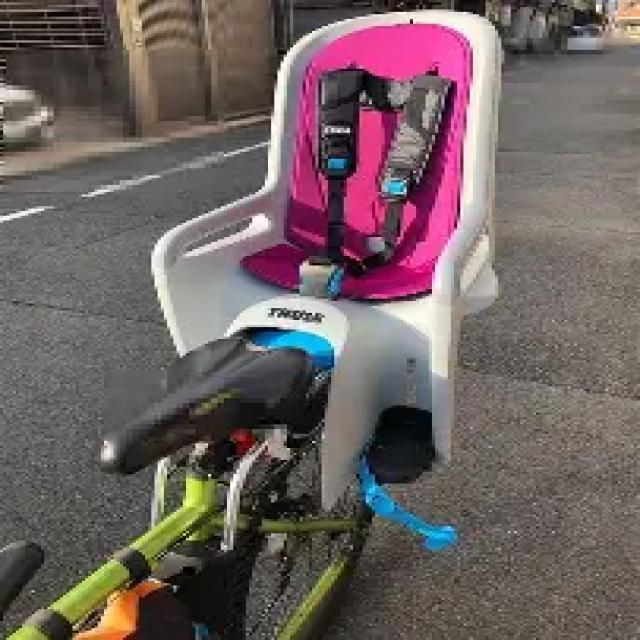childseat: (145, 8, 512, 508)
